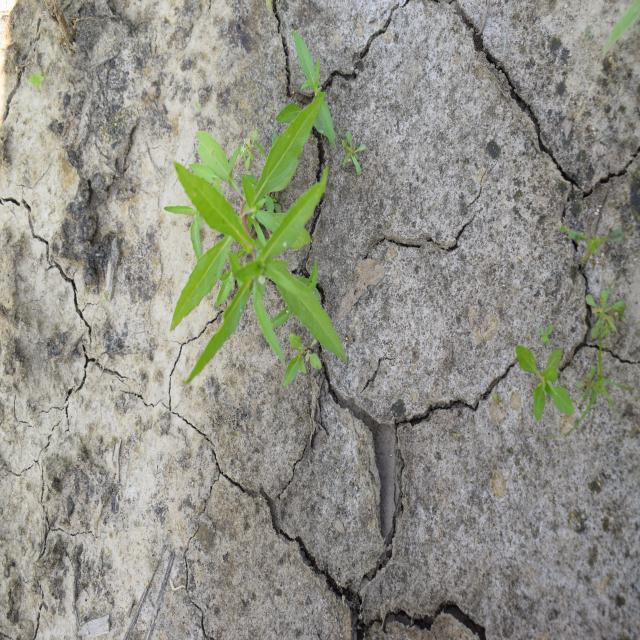Carpetweed: (586, 285, 627, 342), (340, 128, 368, 175)
Eclipta: (162, 29, 349, 388), (514, 344, 576, 422)
